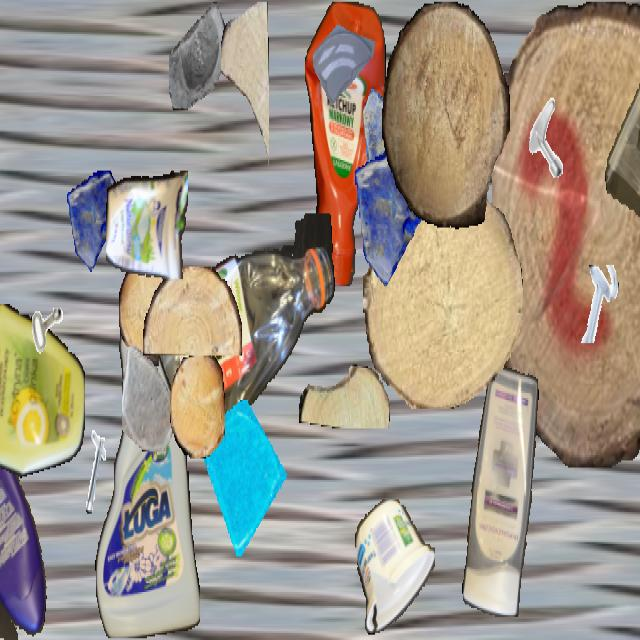glass: (203, 400, 291, 556), (353, 140, 437, 290), (313, 2, 375, 112), (169, 2, 229, 108), (122, 346, 180, 449), (363, 82, 419, 181), (67, 171, 123, 270)
metal: (11, 254, 71, 361), (71, 430, 127, 530), (523, 92, 575, 185), (576, 265, 620, 343)
plastic: (157, 213, 335, 423), (95, 301, 199, 638), (305, 2, 385, 286), (461, 366, 539, 615), (0, 304, 85, 482), (0, 386, 52, 638), (355, 500, 435, 634), (106, 164, 188, 278), (603, 43, 640, 231)
wood: (492, 1, 640, 468), (363, 194, 523, 407), (382, 2, 510, 229), (143, 266, 241, 356), (221, 2, 269, 172), (299, 364, 389, 428), (170, 356, 224, 458), (119, 260, 169, 366)
